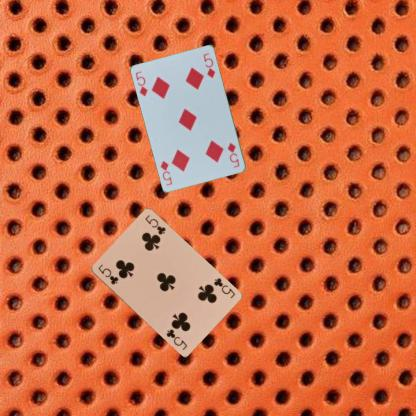5c: (211, 275, 236, 300), (95, 262, 120, 286)
5d: (225, 140, 241, 170), (134, 69, 149, 98)
